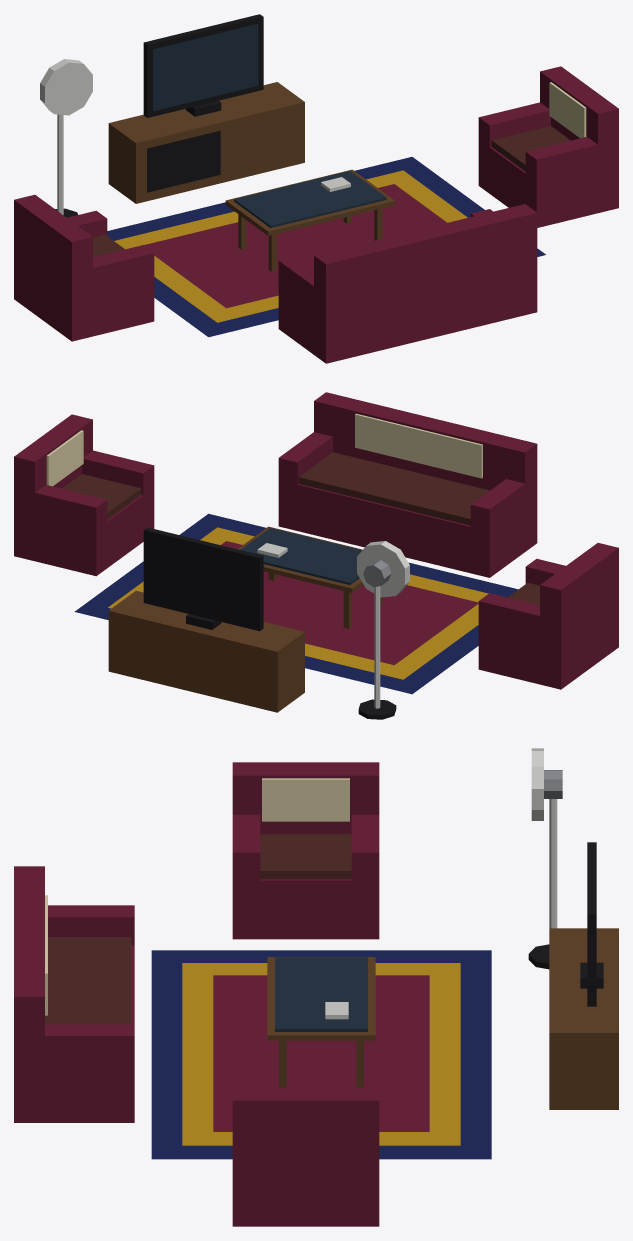
File: prop_parlour-set.1a7098a20c43.glb
3 views of the same model, one above another, from view 1: azimuth 30°, elevation 25°; view 2: azimuth 150°, elevation 25°; view 3: azimuth 270°, elevation 25° (orthographic). The views are drawn at different scales.
Parts seen in each view (by area): view 1: body; view 2: body; view 3: body.
Part boxes in pixels (bbox=[...]): body: bbox=[14, 14, 618, 363]; body: bbox=[14, 392, 618, 719]; body: bbox=[14, 748, 618, 1226].
Size of the model in its own units: 5.18 by 1.49 by 3.91.
